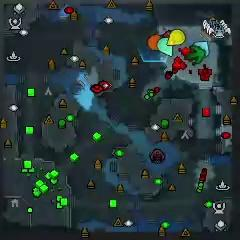p2: (158, 37, 173, 58)
p4: (167, 29, 186, 47)
p5: (148, 35, 163, 51)
x3: (194, 41, 210, 57)
x4: (185, 45, 205, 65)
